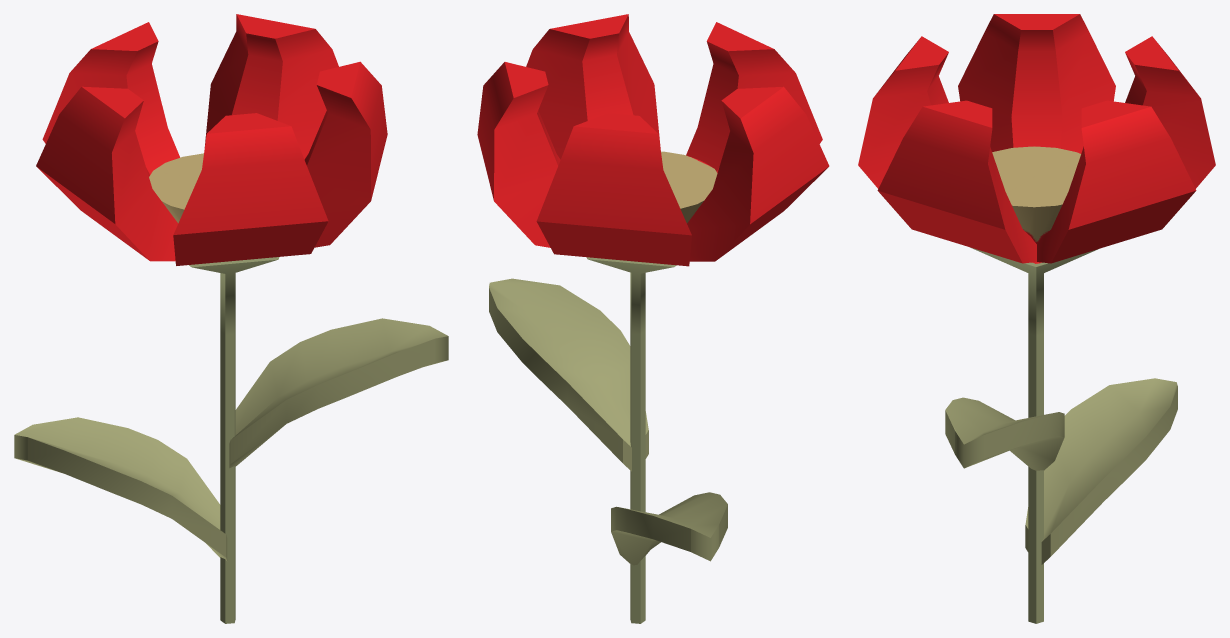
Rendered from flower02.fbx.
3 views of the same model, side by side, from view 1: azimuth 30°, elevation 25°; view 2: azimuth 150°, elevation 25°; view 3: azimuth 270°, elevation 25° (orthographic).
Visible parts, largest first — view 1: node_id7, node_id5, node_id6, node_id8, node_id9; view 2: node_id7, node_id5, node_id6, node_id8, node_id9; view 3: node_id7, node_id6, node_id5, node_id8, node_id9.
Part boxes in pixels (x1=…): node_id7: x1=36, y1=14, x2=387, y2=265; node_id5: x1=229, y1=318, x2=448, y2=468; node_id6: x1=14, y1=417, x2=227, y2=560; node_id8: x1=189, y1=257, x2=279, y2=623; node_id9: x1=149, y1=153, x2=203, y2=223; node_id7: x1=477, y1=14, x2=829, y2=266; node_id5: x1=489, y1=278, x2=648, y2=471; node_id6: x1=611, y1=492, x2=727, y2=565; node_id8: x1=587, y1=257, x2=676, y2=623; node_id9: x1=661, y1=151, x2=717, y2=223; node_id7: x1=858, y1=14, x2=1215, y2=263; node_id6: x1=1025, y1=378, x2=1177, y2=564; node_id5: x1=945, y1=397, x2=1064, y2=470; node_id8: x1=970, y1=247, x2=1098, y2=623; node_id9: x1=992, y1=146, x2=1080, y2=243.
Size of the model in its own units: 0.3286 by 0.512 by 0.3043.
Materials: 5 (3 with a texture image).
